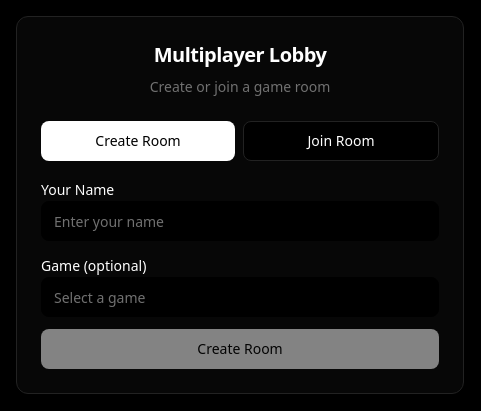
Test: LobbyScreen › Join Room Mode › should render join room form when join tab clicked
Click the button with test id "join-tab".
click(341, 141)  # box x1=243 y1=121 x2=439 y2=161
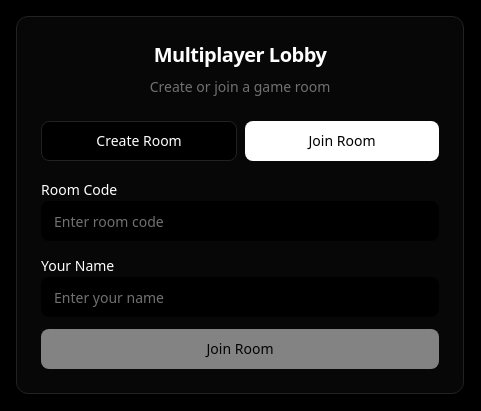
Now the field with test id "room-code-input" is shown, box x1=41 y1=201 x2=439 y2=241
Now the button with test id "join-room-btn" is shown, box x1=41 y1=329 x2=439 y2=369
